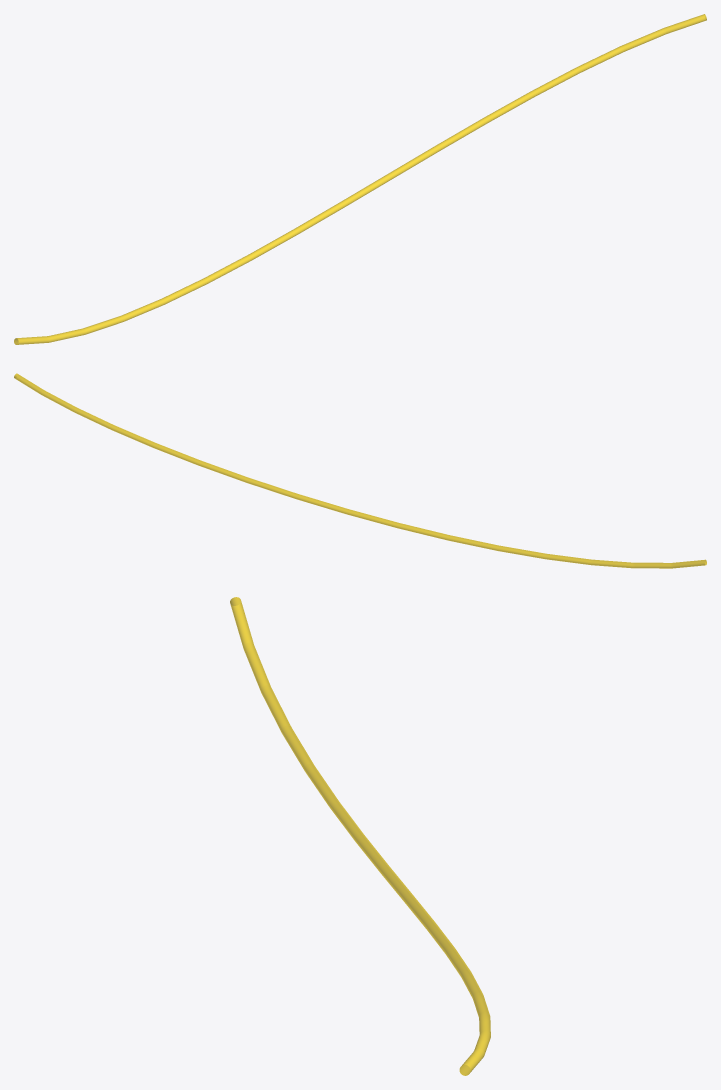
Rendered from Event_17758602_track_97.fbx.
3 renders of one model, top to bottom at view 1: azimuth 30°, elevation 25°; view 2: azimuth 150°, elevation 25°; view 3: azimuth 270°, elevation 25°, orthographic. The views are drawn at different scales.
Parts seen in each view (by area): view 1: Model; view 2: Model; view 3: Model.
Part boxes in pixels (x1=…): Model: x1=14, y1=14, x2=706, y2=344; Model: x1=14, y1=373, x2=706, y2=568; Model: x1=230, y1=597, x2=490, y2=1075.
Size of the model in its own units: 5.15 by 0.7342 by 0.9187.
